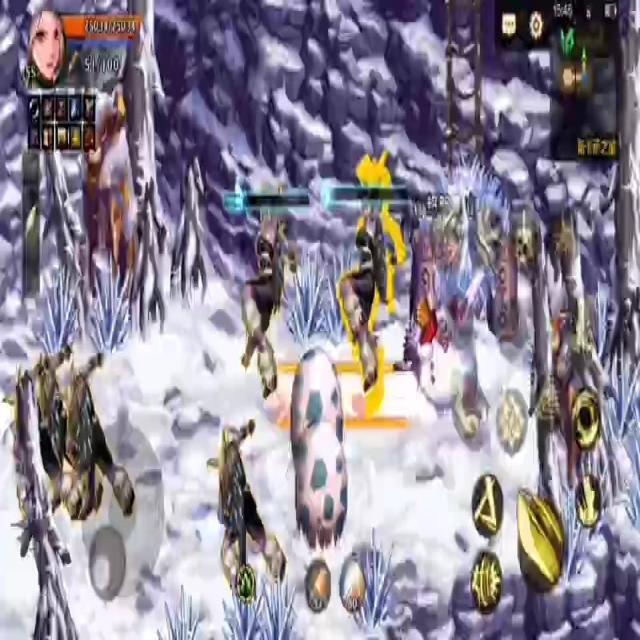player: (409, 274, 490, 432)
